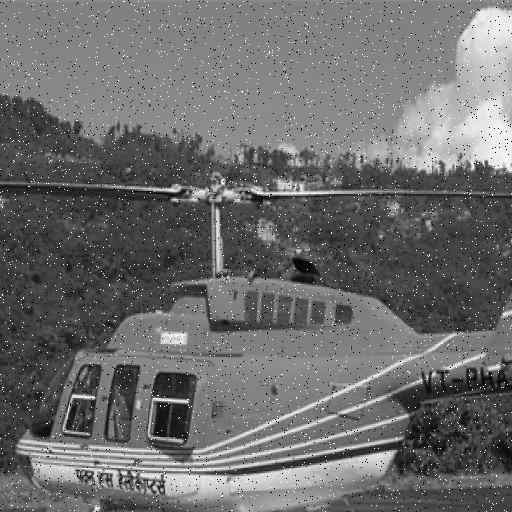helicopter: (1, 69, 512, 512)
